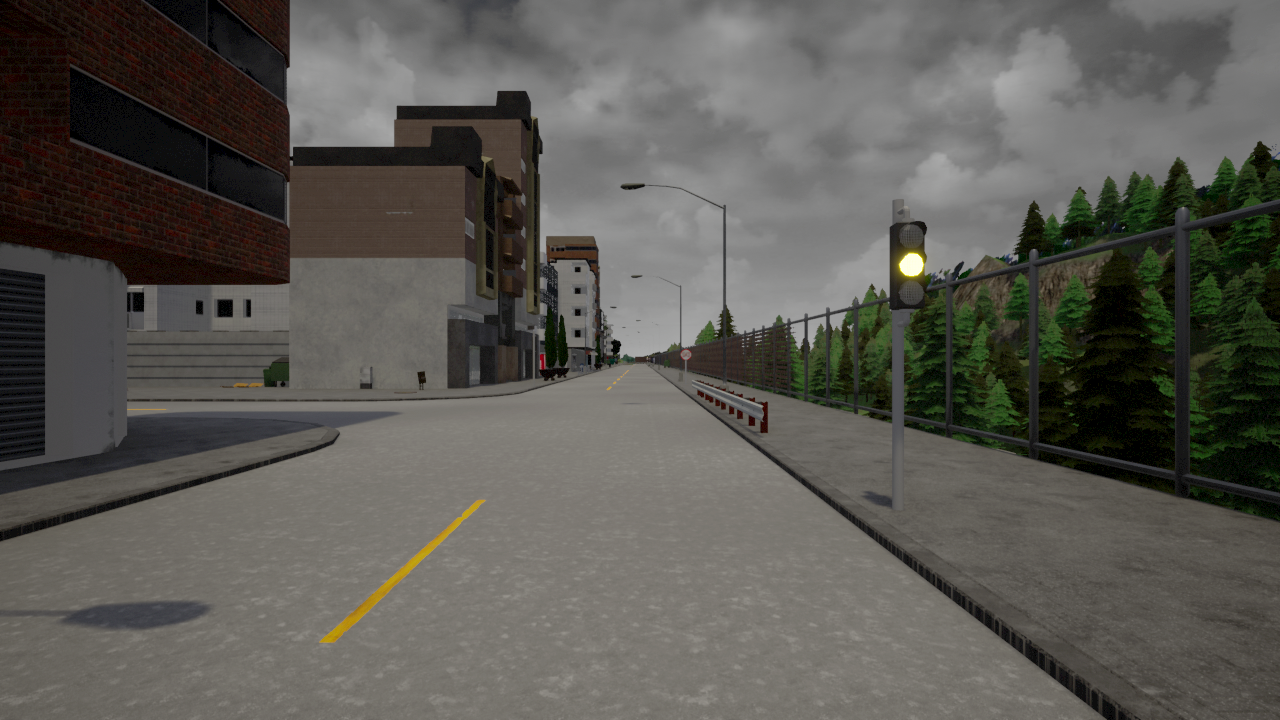yellow: (890, 219, 931, 313)
